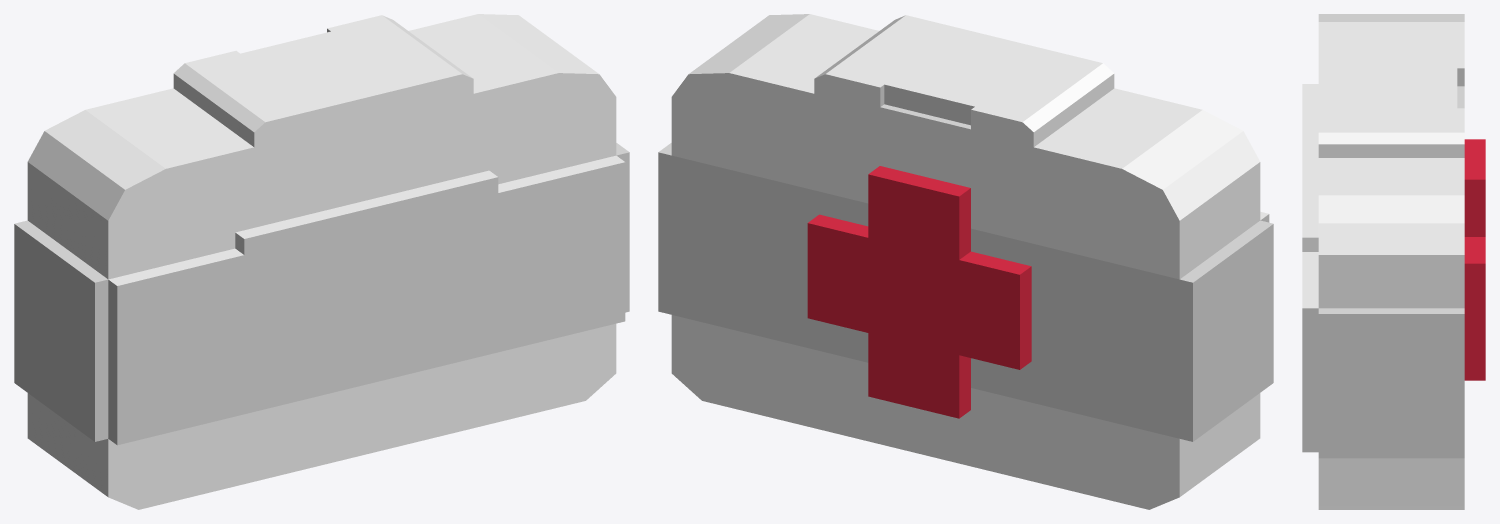
File: medkit.fbx
3 views of the same model, side by side, from view 1: azimuth 30°, elevation 25°; view 2: azimuth 150°, elevation 25°; view 3: azimuth 270°, elevation 25° (orthographic). The views are drawn at different scales.
Visible parts, largest first — view 1: Cube; view 2: Cube; view 3: Cube.
Part boxes in pixels (x1,y1,x2,y2): Cube: (14,14,629,509); Cube: (658,14,1273,509); Cube: (1302,14,1485,509).
Size of the model in its own units: 320 by 204 by 105.
